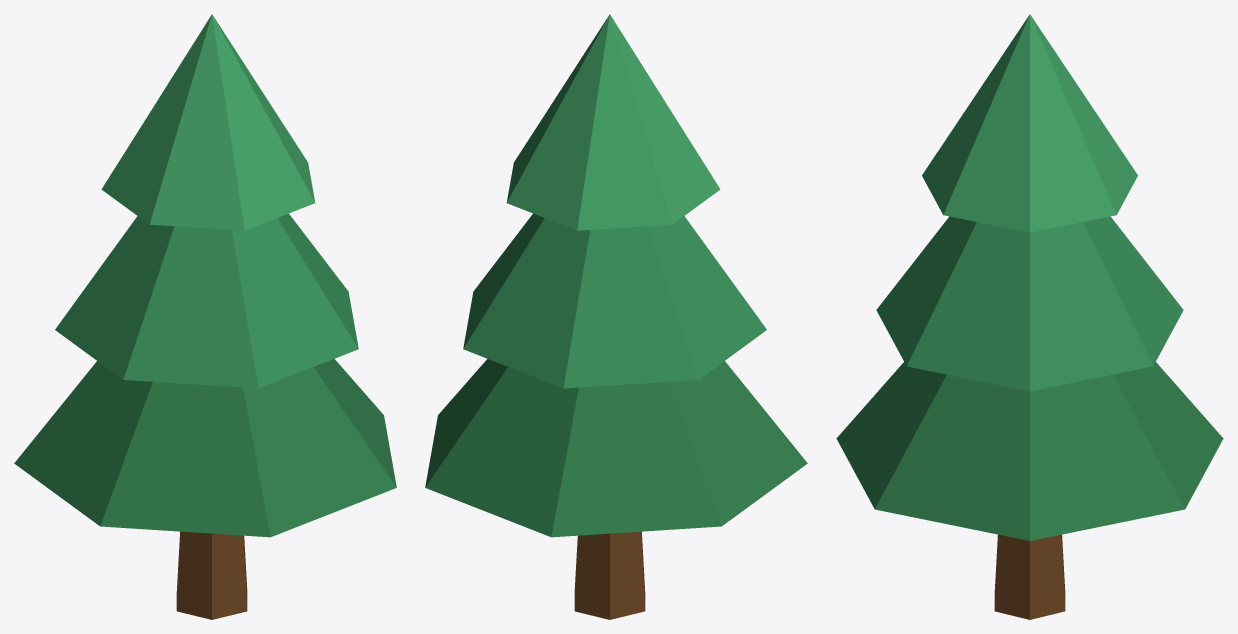
The model's file is pine.glb.
The picture shows the model from 3 angles, left to right: view 1: azimuth 30°, elevation 25°; view 2: azimuth 150°, elevation 25°; view 3: azimuth 270°, elevation 25°; orthographic projection.
Parts seen in each view (by area): view 1: Tier1, Tier2, Tier3, Trunk; view 2: Tier1, Tier2, Tier3, Trunk; view 3: Tier1, Tier2, Tier3, Trunk.
Boxes of the visible parts, <box> form: Tier1: <box>14,359,396,537</box>; Tier2: <box>55,213,358,388</box>; Tier3: <box>101,14,315,230</box>; Trunk: <box>176,531,247,619</box>; Tier1: <box>425,359,807,537</box>; Tier2: <box>463,213,766,388</box>; Tier3: <box>506,14,720,230</box>; Trunk: <box>574,531,645,619</box>; Tier1: <box>836,362,1223,540</box>; Tier2: <box>876,216,1183,391</box>; Tier3: <box>922,14,1137,232</box>; Trunk: <box>994,534,1065,619</box>.
Bounding box in the file's own units: 1.29 × 2.22 × 1.33.
